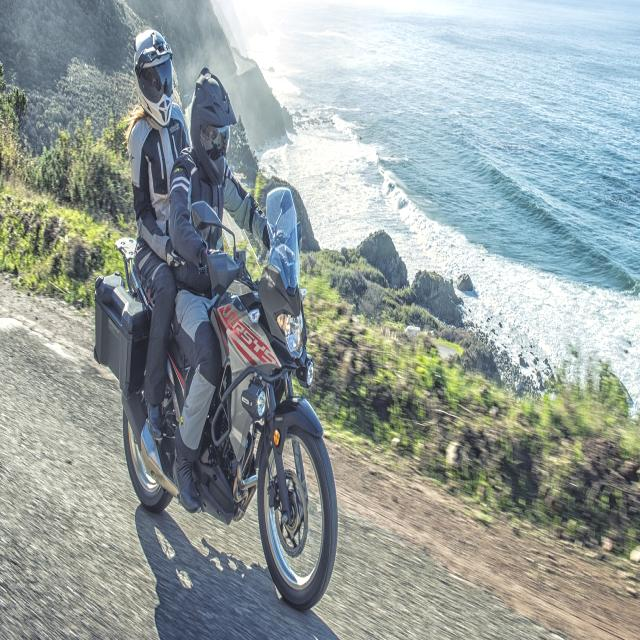MOTORCYCLE: (88, 211, 334, 624)
